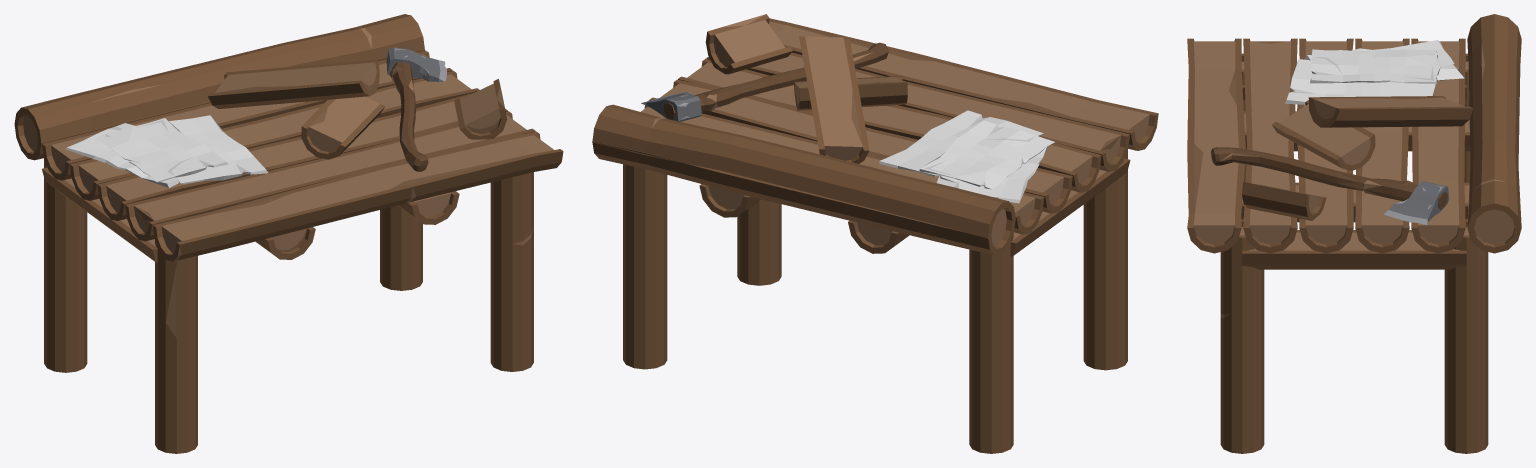
Rendered from mesh_wood_craftingbench.fbx.
The picture shows the model from 3 angles, left to right: view 1: azimuth 30°, elevation 25°; view 2: azimuth 150°, elevation 25°; view 3: azimuth 270°, elevation 25°; orthographic projection. The views are drawn at different scales.
Visible parts, largest first — view 1: mesh_wood_craftingbench; view 2: mesh_wood_craftingbench; view 3: mesh_wood_craftingbench.
Boxes of the visible parts, x1,y1,x2,y2 form: mesh_wood_craftingbench: (14, 14, 563, 453); mesh_wood_craftingbench: (592, 14, 1158, 453); mesh_wood_craftingbench: (1187, 14, 1521, 453).
Bounding box in the file's own units: 1.6 × 1.15 × 1.19.
